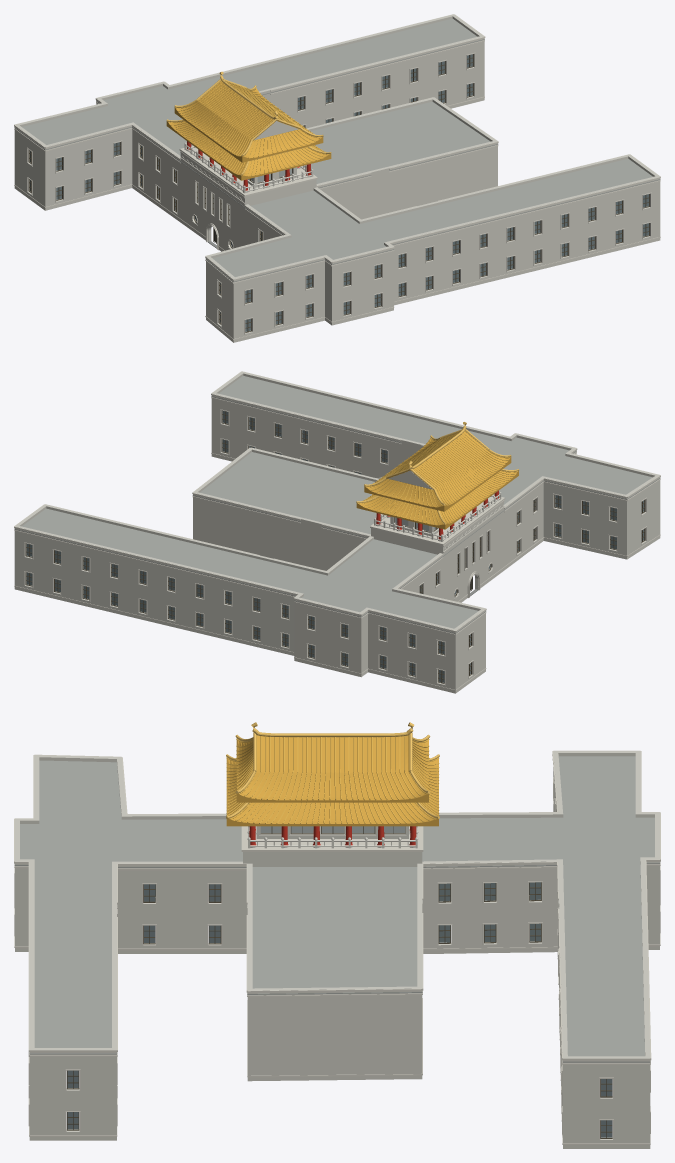
File: yangpu-former-shanghai-city-museum-web.glb
3 views of the same model, one above another, from view 1: azimuth 30°, elevation 25°; view 2: azimuth 150°, elevation 25°; view 3: azimuth 270°, elevation 25° (orthographic). The views are drawn at different scales.
Parts seen in each view (by area): view 1: 旧上海市博物馆江湾馆舍; view 2: 旧上海市博物馆江湾馆舍; view 3: 旧上海市博物馆江湾馆舍.
Boxes of the visible parts, x1=… form: 旧上海市博物馆江湾馆舍: x1=14, y1=14, x2=660, y2=342; 旧上海市博物馆江湾馆舍: x1=14, y1=371, x2=660, y2=693; 旧上海市博物馆江湾馆舍: x1=14, y1=722, x2=660, y2=1148.
Size of the model in its own units: 76.66 by 23.96 by 68.
